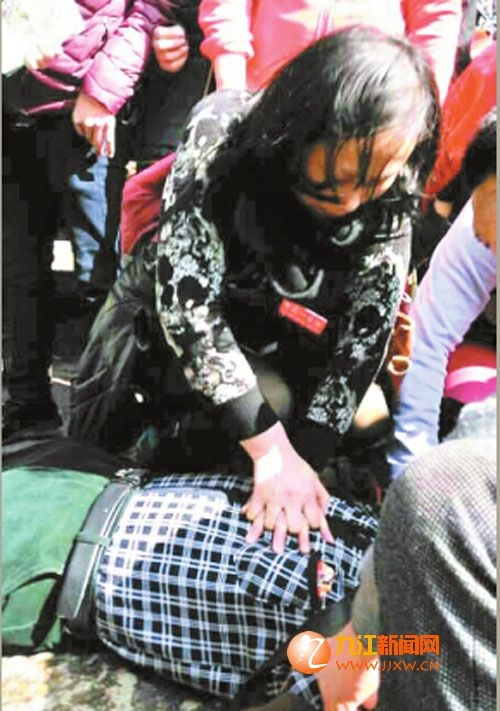falling: (16, 382, 427, 703)
